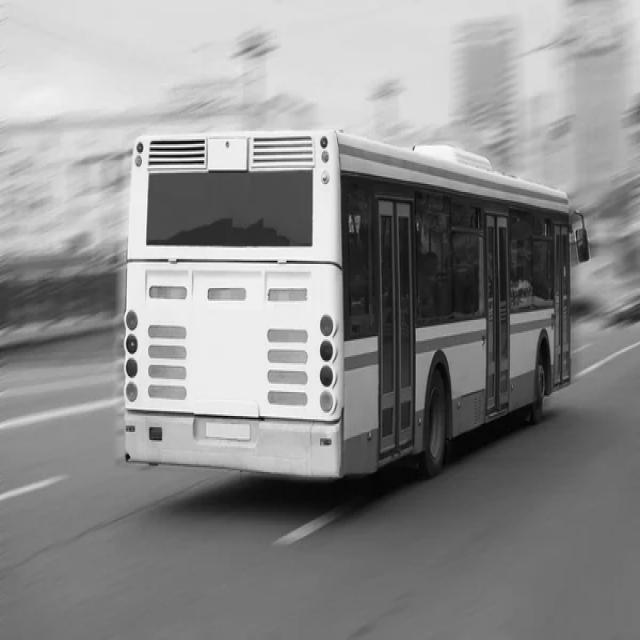Bus: (116, 130, 582, 483)
